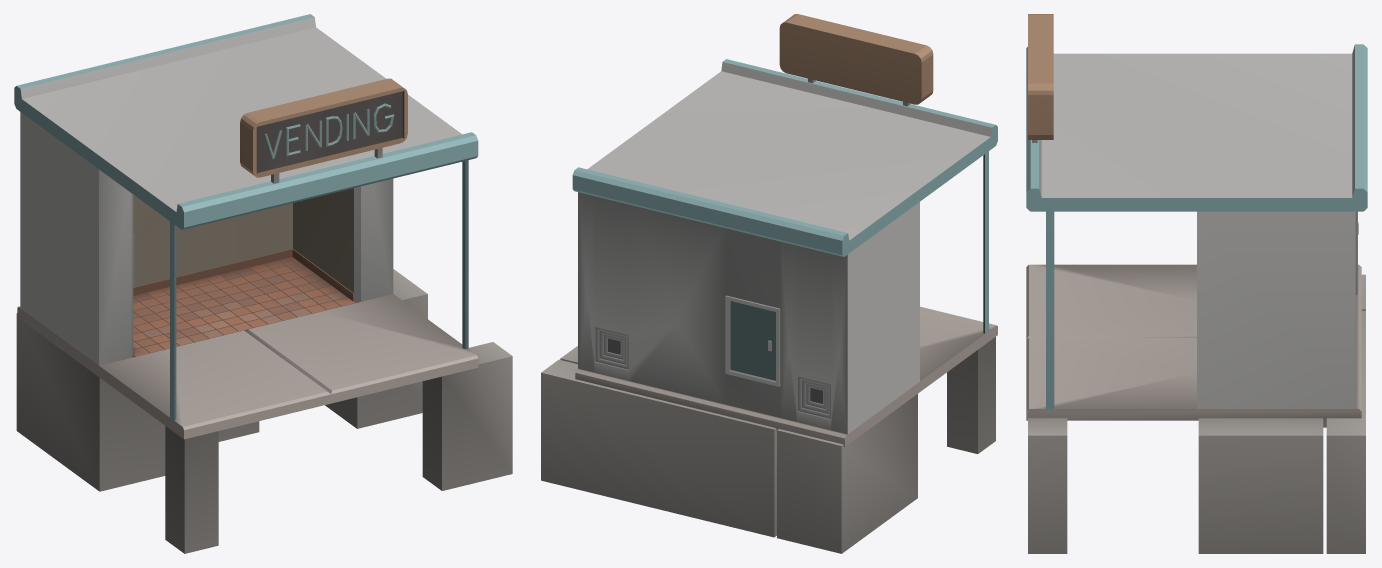
The model's file is vending.glb.
The picture shows the model from 3 angles, left to right: view 1: azimuth 30°, elevation 25°; view 2: azimuth 150°, elevation 25°; view 3: azimuth 270°, elevation 25°; orthographic projection. The views are drawn at different scales.
Visible parts, largest first — view 1: vending; view 2: vending; view 3: vending.
Part boxes in pixels (left/top/right/bottom): vending: left=14, top=14, right=512, bottom=553; vending: left=541, top=14, right=997, bottom=553; vending: left=1026, top=14, right=1367, bottom=553.
Bounding box in the file's own units: 4.48 × 5.37 × 4.
